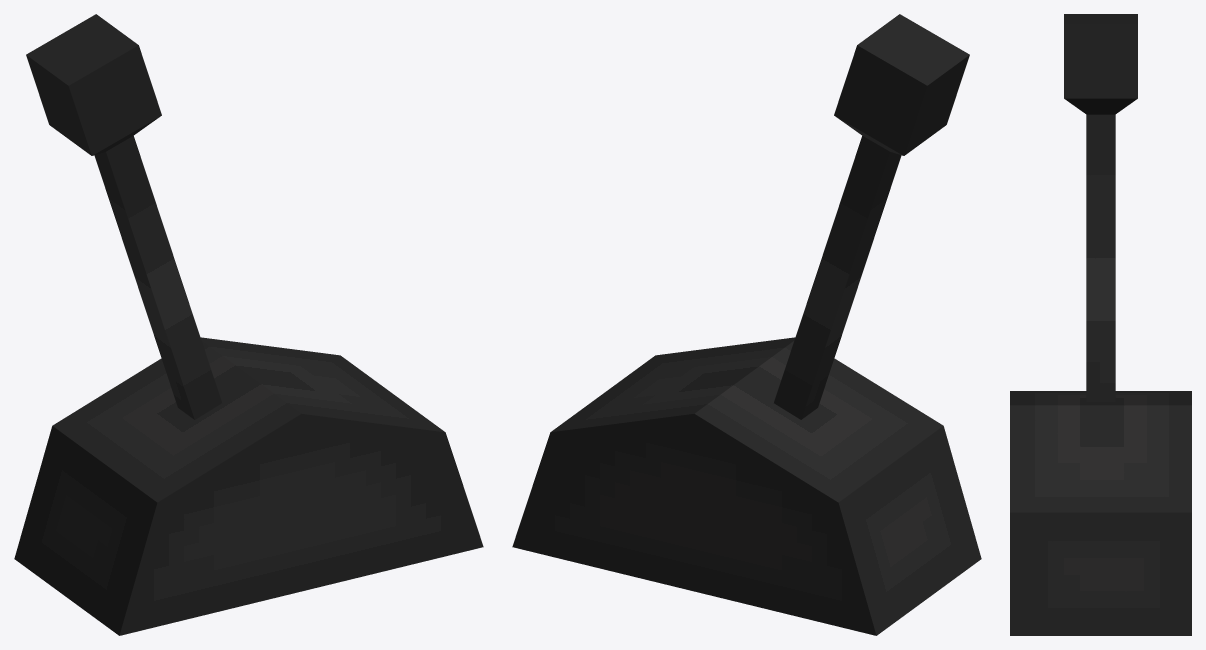
File: lever0005.obj
3 views of the same model, side by side, from view 1: azimuth 30°, elevation 25°; view 2: azimuth 150°, elevation 25°; view 3: azimuth 270°, elevation 25° (orthographic). The views are drawn at different scales.
Parts seen in each view (by area): view 1: Cube.018, Cube.019; view 2: Cube.018, Cube.019; view 3: Cube.018, Cube.019.
Part boxes in pixels (x1,y1,x2,y2): Cube.018: (14,337,483,635); Cube.019: (26,14,221,419); Cube.018: (512,337,981,635); Cube.019: (774,14,969,419); Cube.018: (1010,391,1191,635); Cube.019: (1064,14,1137,401).
Size of the model in its own units: 33.72 by 47.4 by 16.
